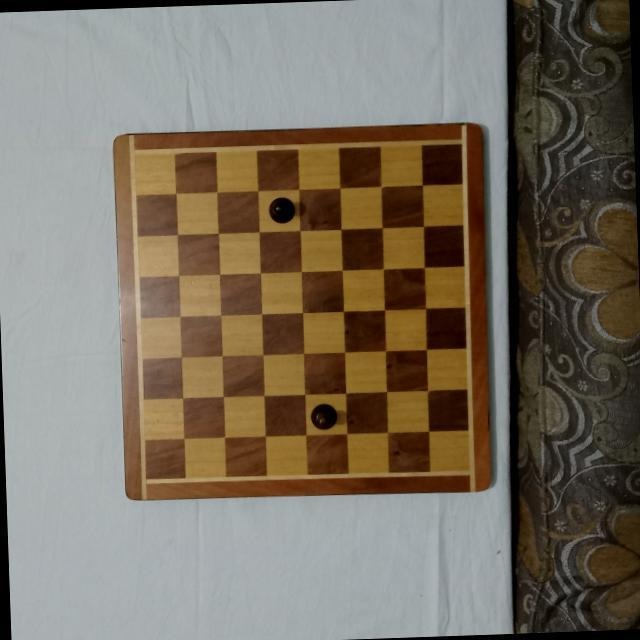black-pawn: (307, 400, 337, 430), (265, 193, 295, 222)
